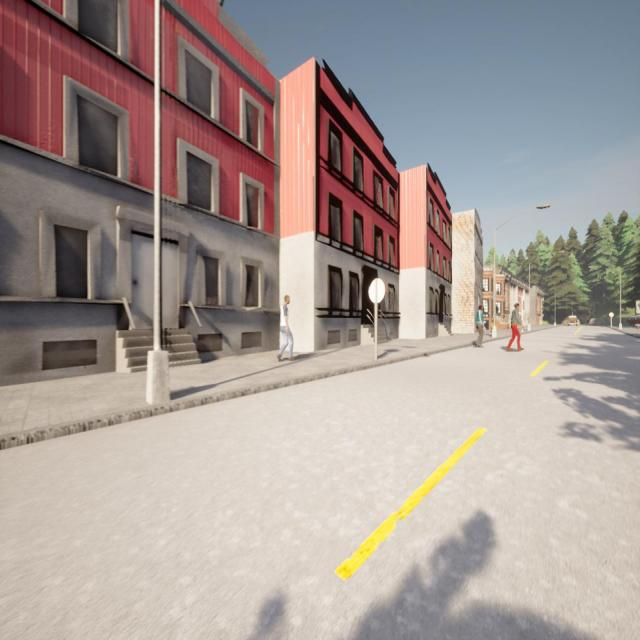Pedestrian: (277, 295, 295, 361), (506, 302, 523, 350), (475, 304, 485, 349)
Traffic_Signs: (368, 280, 386, 303), (608, 312, 614, 317)
Vehicle: (567, 314, 578, 328), (627, 315, 640, 326)
